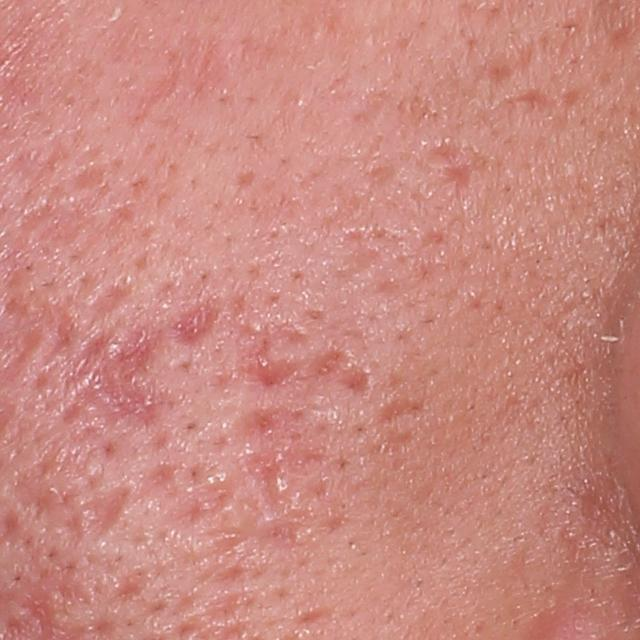atrophic_scar: (55, 324, 180, 433), (239, 402, 306, 524), (238, 335, 304, 394), (84, 478, 133, 545), (313, 346, 372, 399), (172, 296, 226, 348), (371, 397, 437, 428), (488, 89, 554, 116), (86, 285, 135, 318)
